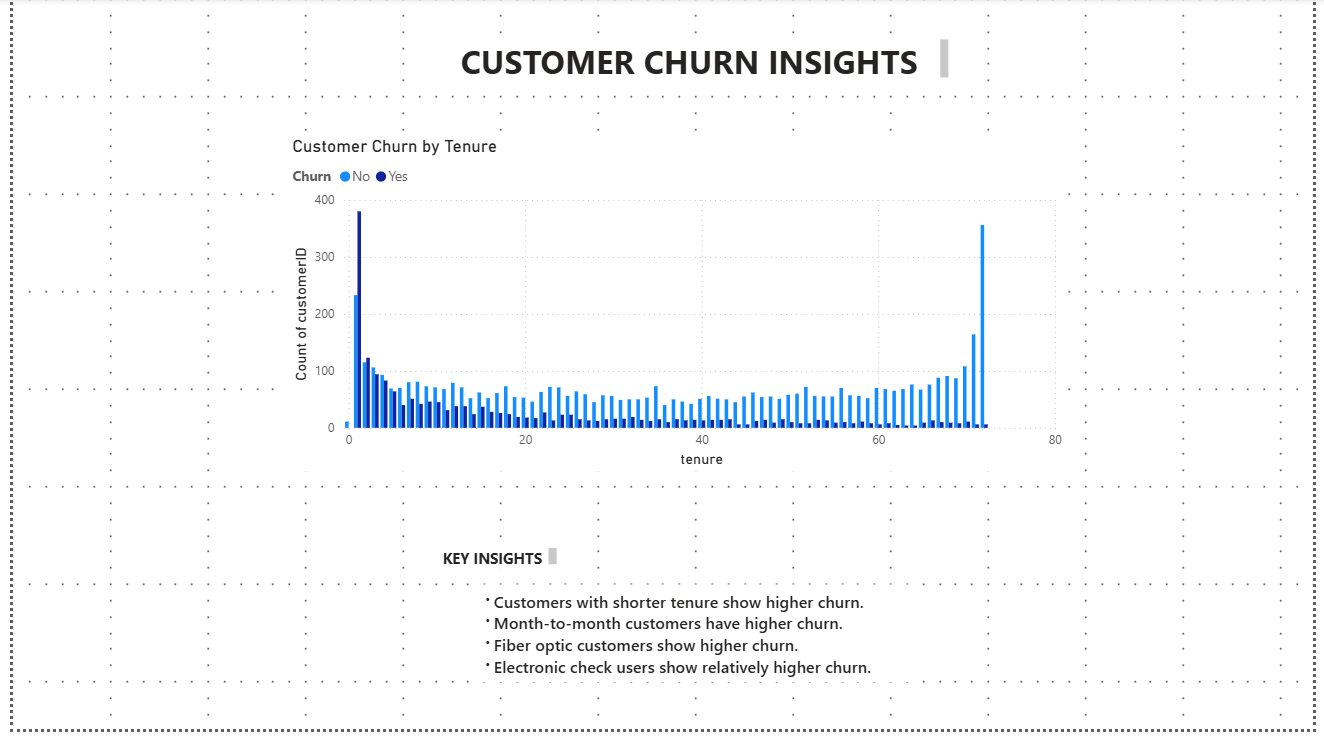

What the dashboard file says about the page in this screenshot:
{"tool":"powerbi","page":{"name":"Page 2","canvas":[1280,720],"ordinal":1},"visuals":[{"type":"clusteredColumnChart","title":"Customer Churn by Tenure","fields":{"Series":["Telco-Customer-Churn-Cleaned.Churn"],"Y":["CountNonNull(Telco-Customer-Churn-Cleaned.customerID)"],"Category":["Telco-Customer-Churn-Cleaned.tenure"]},"box":[270,136,768,330],"z":0},{"type":"textbox","box":[436,36,490,50],"z":1000},{"type":"textbox","box":[450,578,434,96],"z":2000},{"type":"textbox","box":[418,536,122,26],"z":3000}]}

Visuals, with their boxes in screenshot pixels (x1, y1, x2, y2), scaled from the page's 1280x720 canvas onto the 1324x739 screenshot:
"Customer Churn by Tenure" clusteredColumnChart: [left=279, top=140, right=1074, bottom=478]
textbox: [left=451, top=37, right=958, bottom=88]
textbox: [left=465, top=593, right=914, bottom=692]
textbox: [left=432, top=550, right=559, bottom=577]
